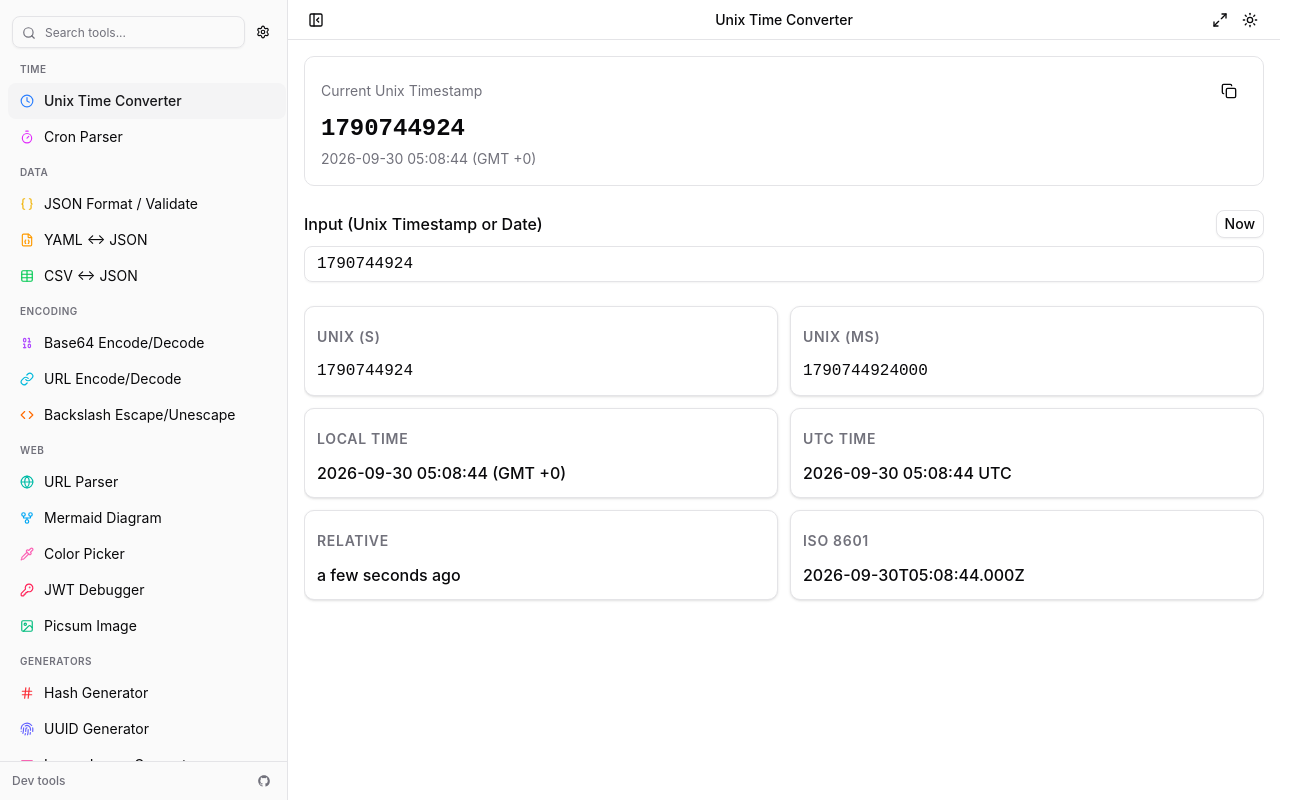
Test: full width toggle changes the content wrapper
Click the button titled "Full width".
click(1220, 20)  # box [1208,8,1232,32]
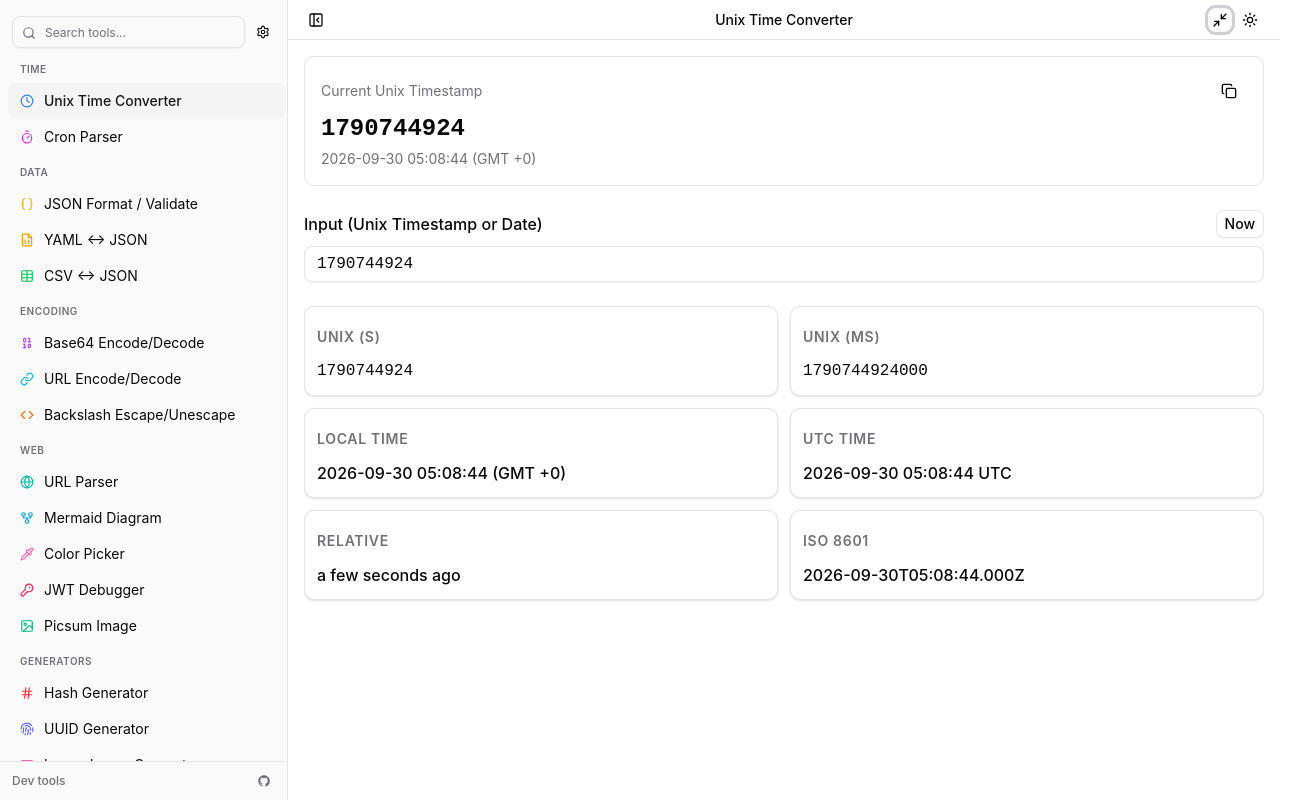
Result: the button titled "Constrain width" is shown at [1208,8,1232,32]
